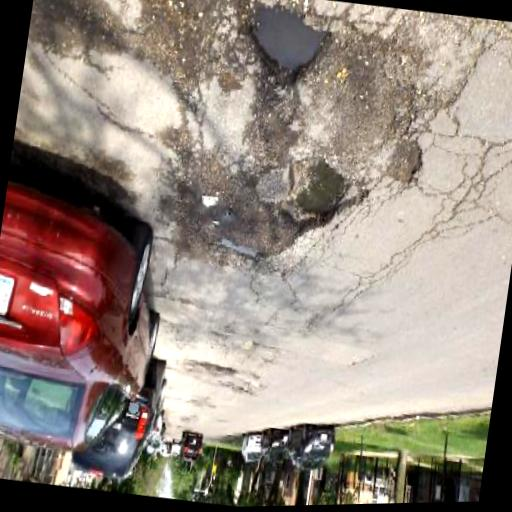pothole: (269, 148, 374, 249), (236, 1, 338, 93), (382, 138, 428, 190), (196, 361, 238, 381), (198, 190, 223, 214)
